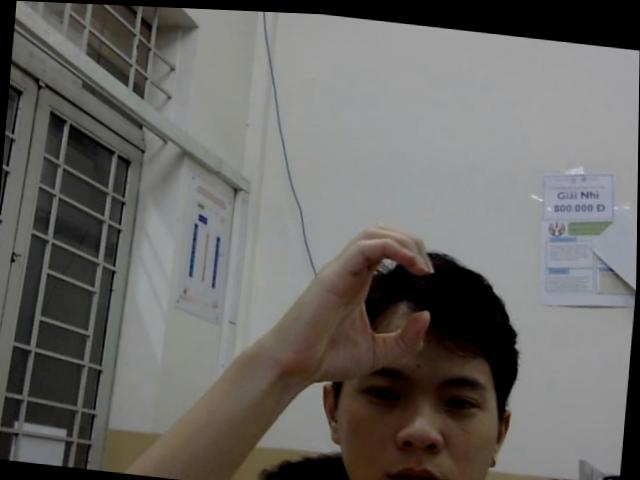C: (268, 205, 438, 387)
